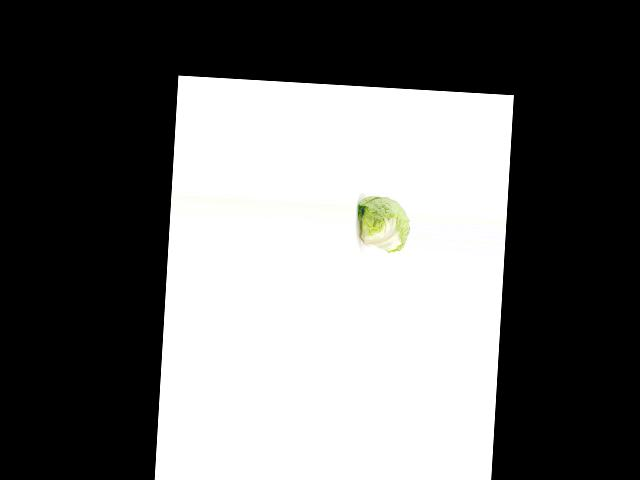lettuce: (352, 193, 411, 254)
